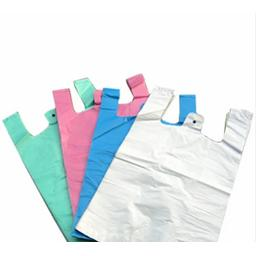plastic: (103, 100, 247, 244)
